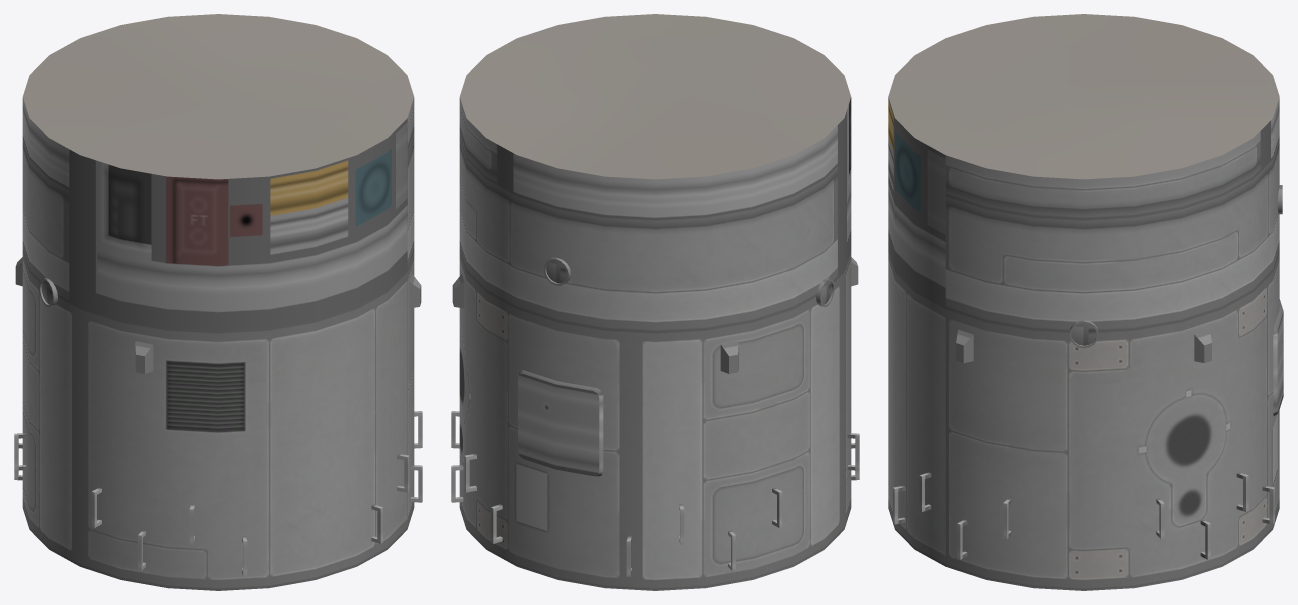
Rendered from Eridani_Crew_2.obj.
The picture shows the model from 3 angles, left to right: view 1: azimuth 30°, elevation 25°; view 2: azimuth 150°, elevation 25°; view 3: azimuth 270°, elevation 25°; orthographic projection.
Parts seen in each view (by area): view 1: Eridani_Crew_2; view 2: Eridani_Crew_2, Eridani_Crew_2_Windows; view 3: Eridani_Crew_2.
Boxes of the visible parts, x1,y1,x2,y2 form: Eridani_Crew_2: [14, 14, 422, 590]; Eridani_Crew_2: [451, 14, 859, 590]; Eridani_Crew_2_Windows: [546, 260, 831, 304]; Eridani_Crew_2: [888, 14, 1283, 590].
Bounding box in the file's own units: 2.54 × 2.9 × 2.52.
